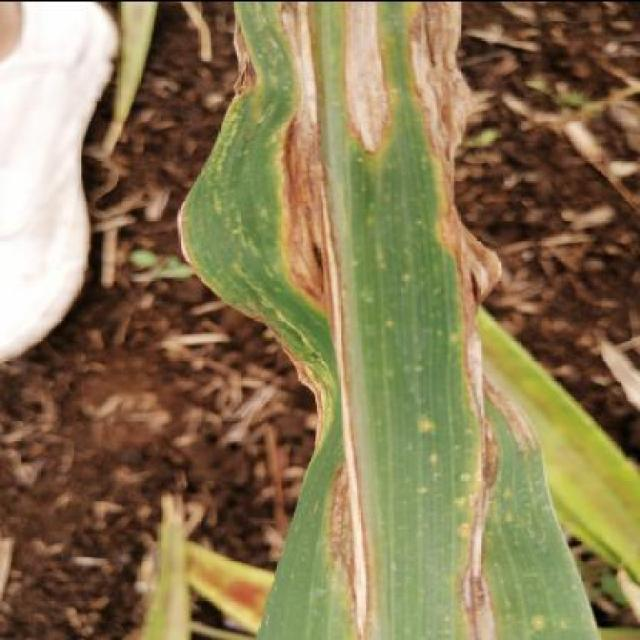Corn_Leaf_Blight: (181, 0, 554, 640)
